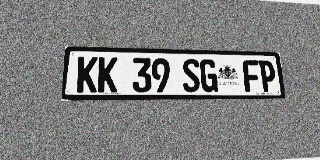3: (133, 58, 151, 92)
9: (152, 58, 170, 92)
F: (242, 60, 261, 92)
G: (200, 59, 218, 92)
K: (76, 56, 98, 93), (97, 57, 118, 93)
P: (258, 60, 277, 92)
S: (182, 59, 201, 92)
